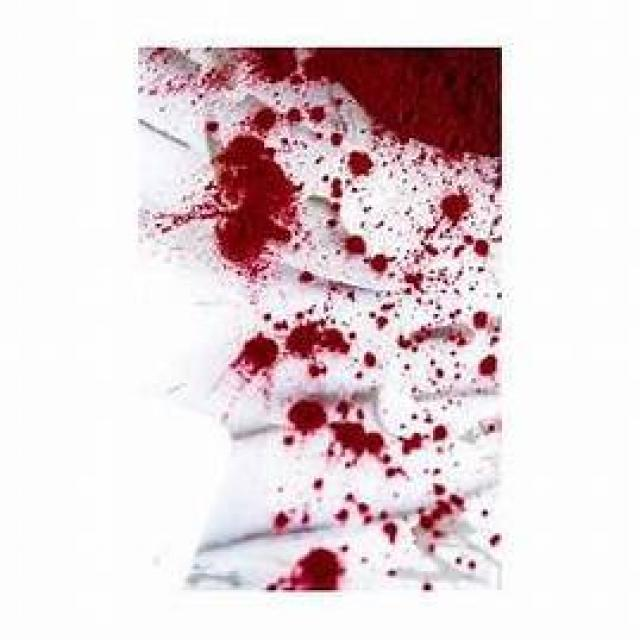wound: (217, 304, 425, 492), (230, 41, 515, 166), (329, 188, 499, 396), (173, 119, 308, 281), (222, 516, 488, 590)
